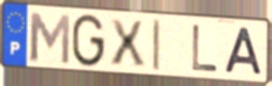A: (223, 26, 265, 78)
G: (70, 12, 107, 69)
I: (151, 18, 162, 73)
L: (190, 23, 220, 74)
M: (27, 10, 72, 66)
X: (107, 17, 148, 68)
